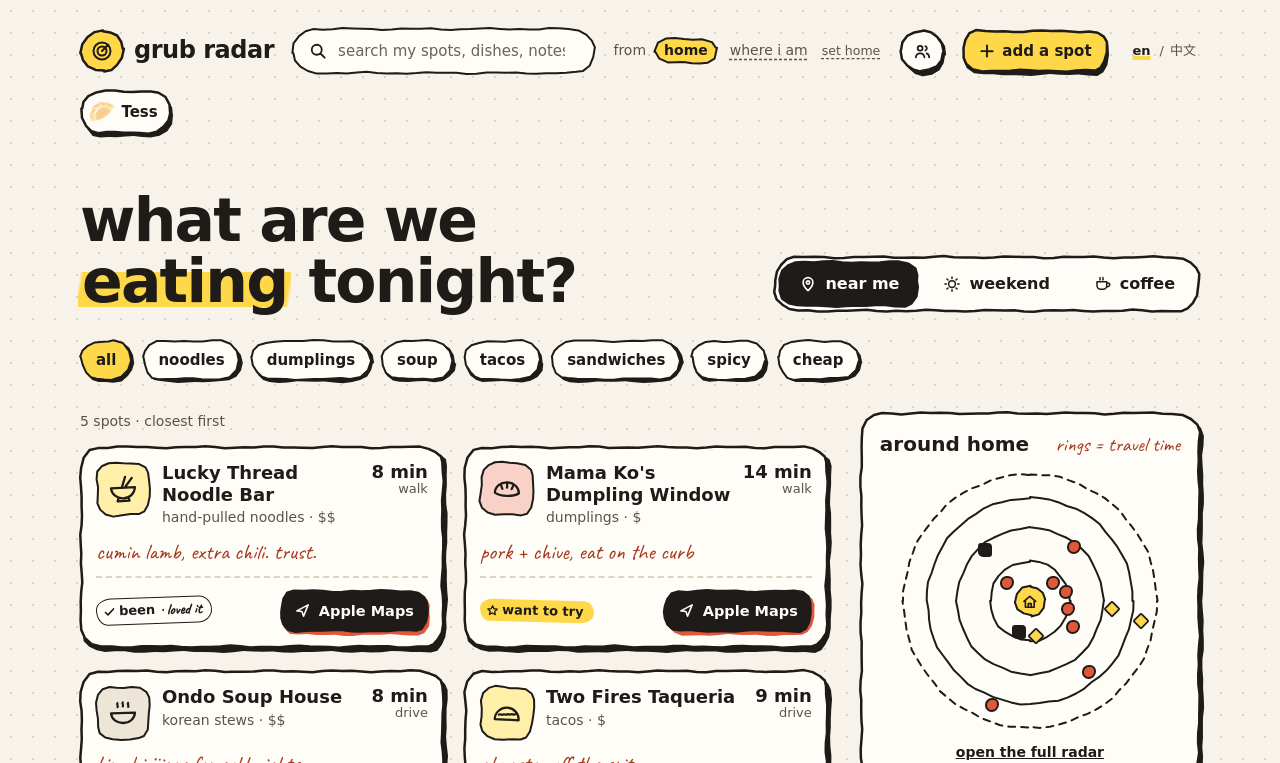
Scenario: home, saved to your account › rejects input that is not lat, lng
The width and height of the screenshot is (1280, 763).
Click the button "set home". click: (851, 51)
box: [820,39,882,63]
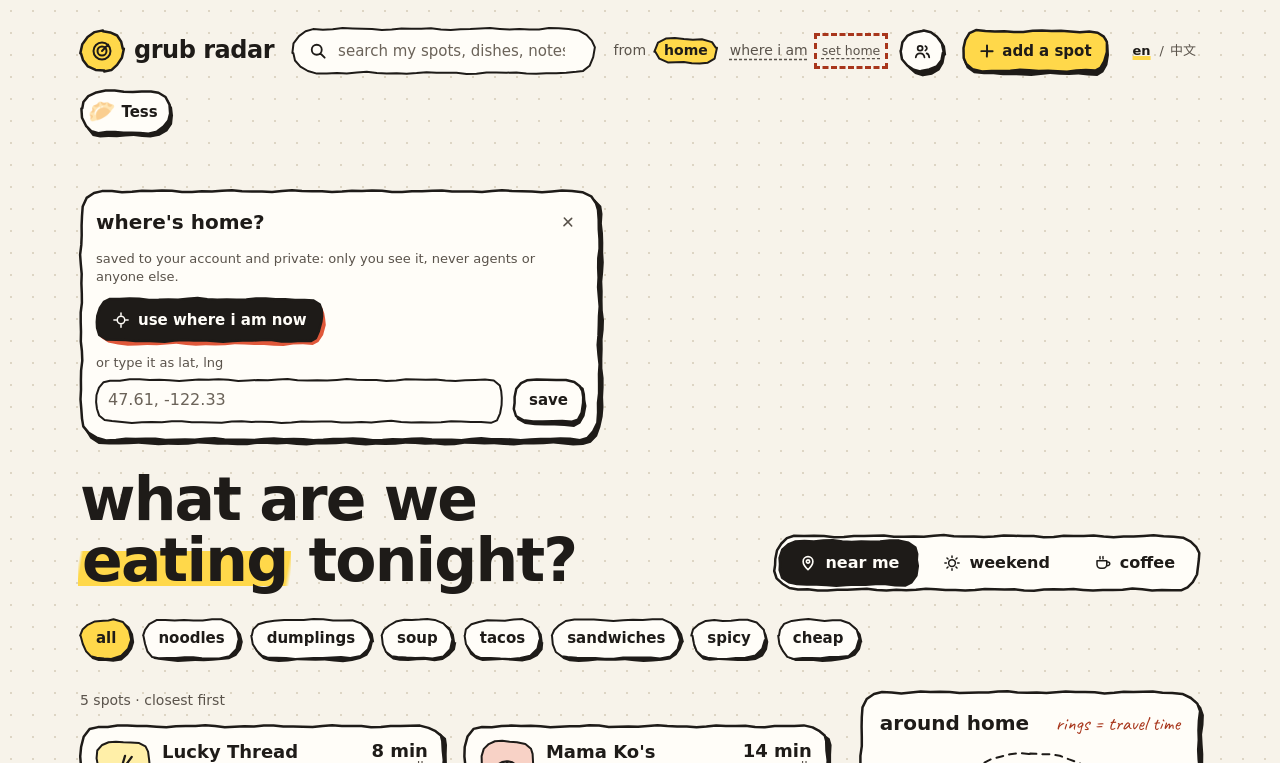
Type "47.61," into the field labelled "or type it as lat, lng". click: (300, 401)
box: [96,379,503,423]
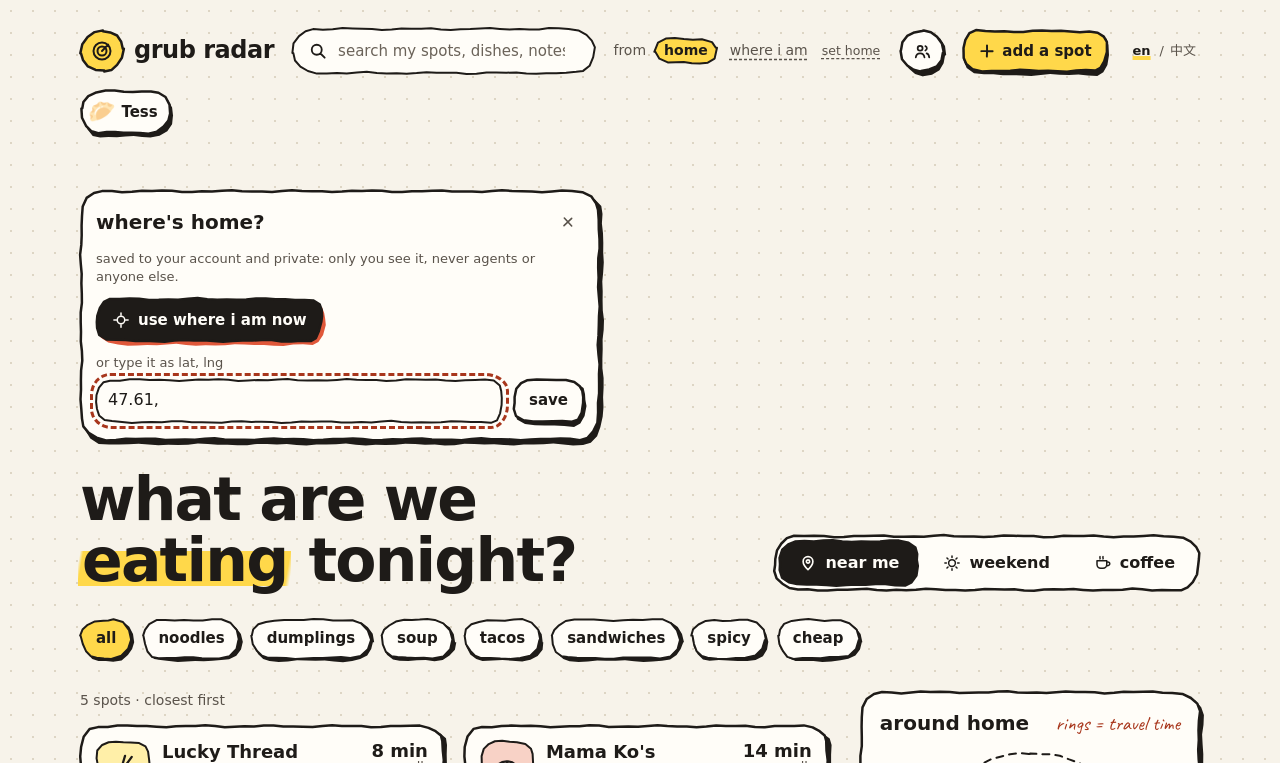
Click the button "save". click: (548, 401)
box: [513,379,584,423]
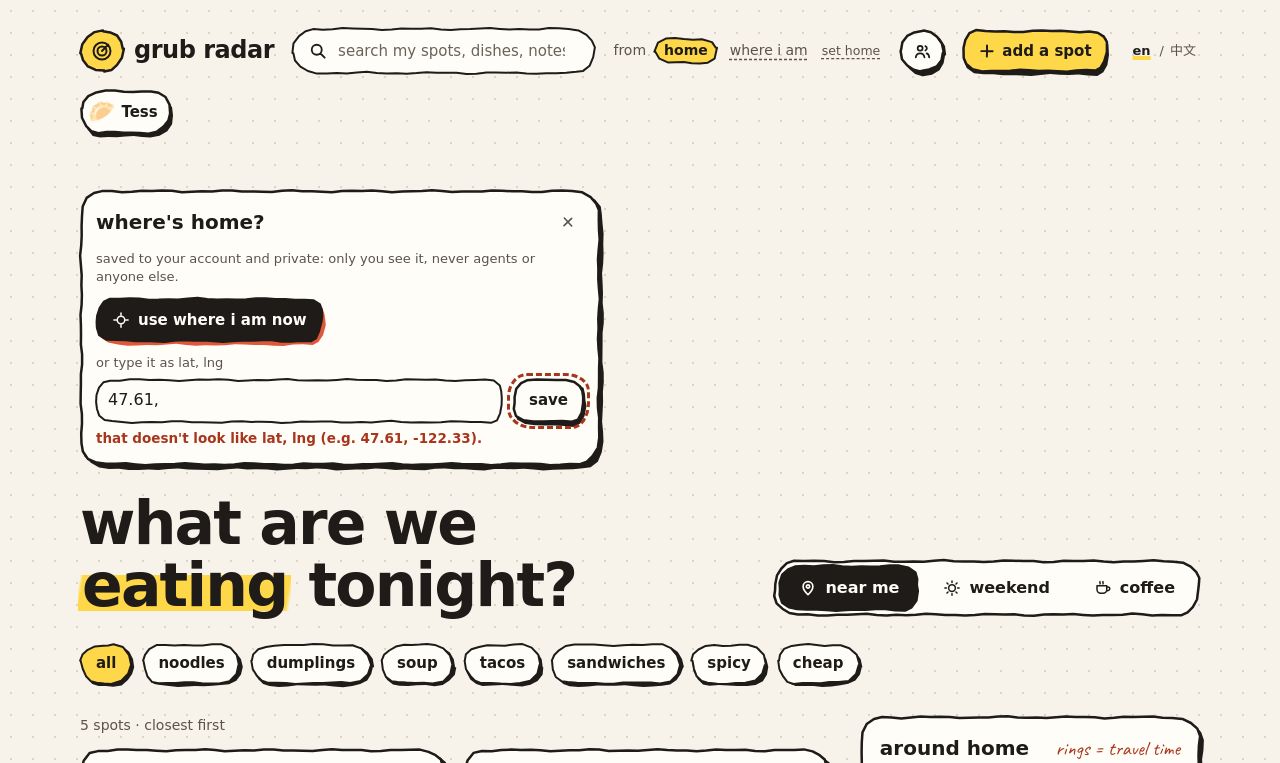
expect the message shows "doesn't look like lat, lng": met, box [96,430,482,446]
